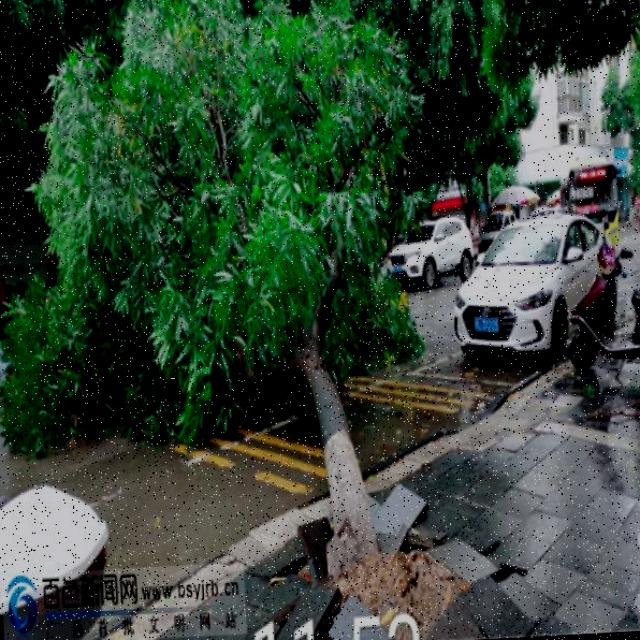fallen_object: (0, 0, 455, 613)
